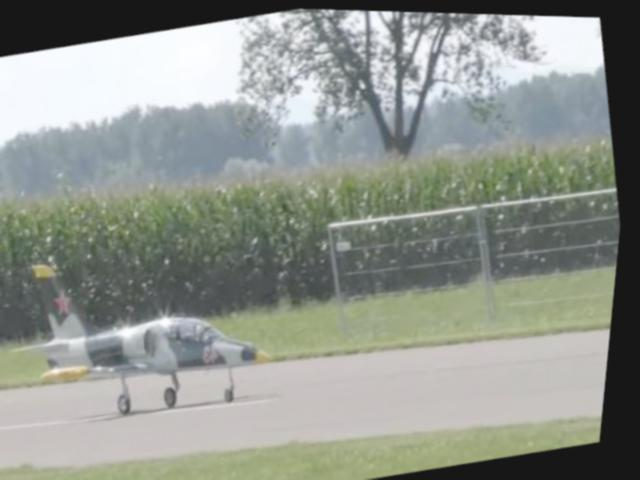uav: (0, 211, 303, 446)
